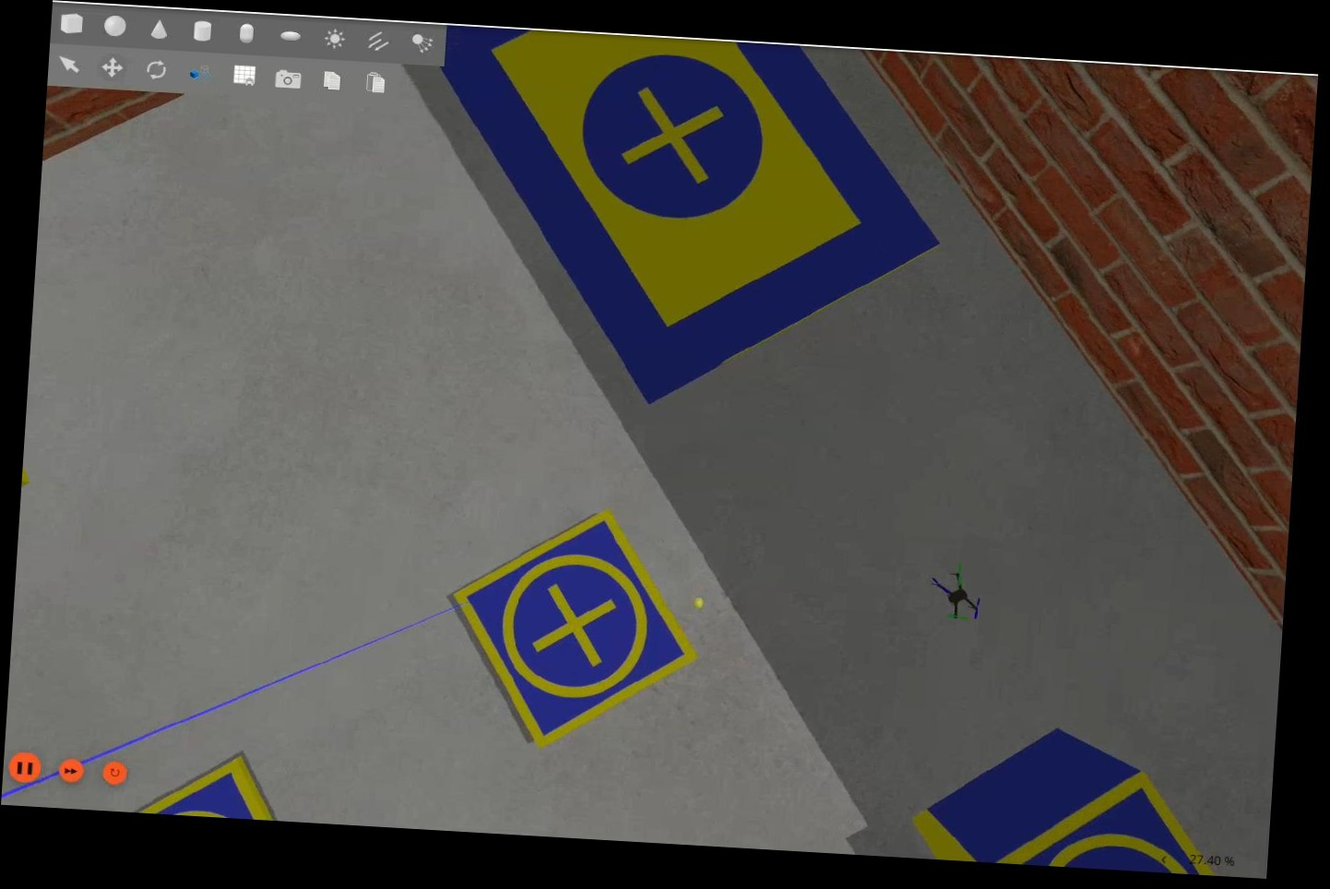large_base: (422, 24, 953, 421)
small_base: (440, 499, 708, 759), (993, 763, 1221, 879)
